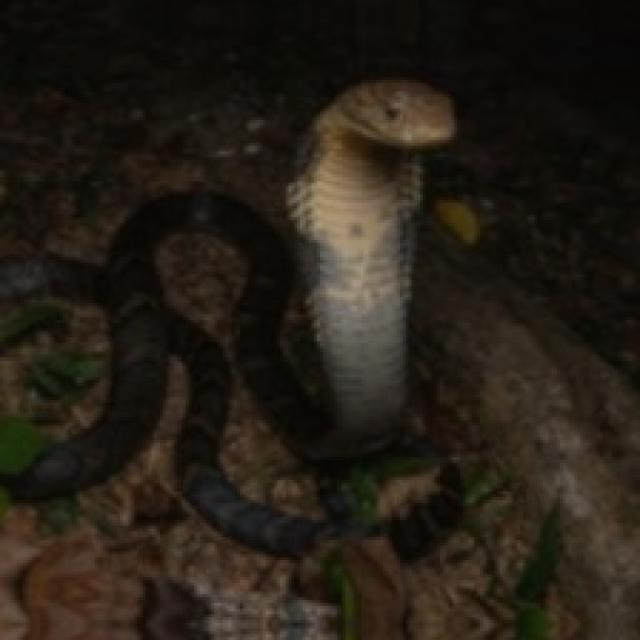king cobra: (6, 80, 454, 554)
